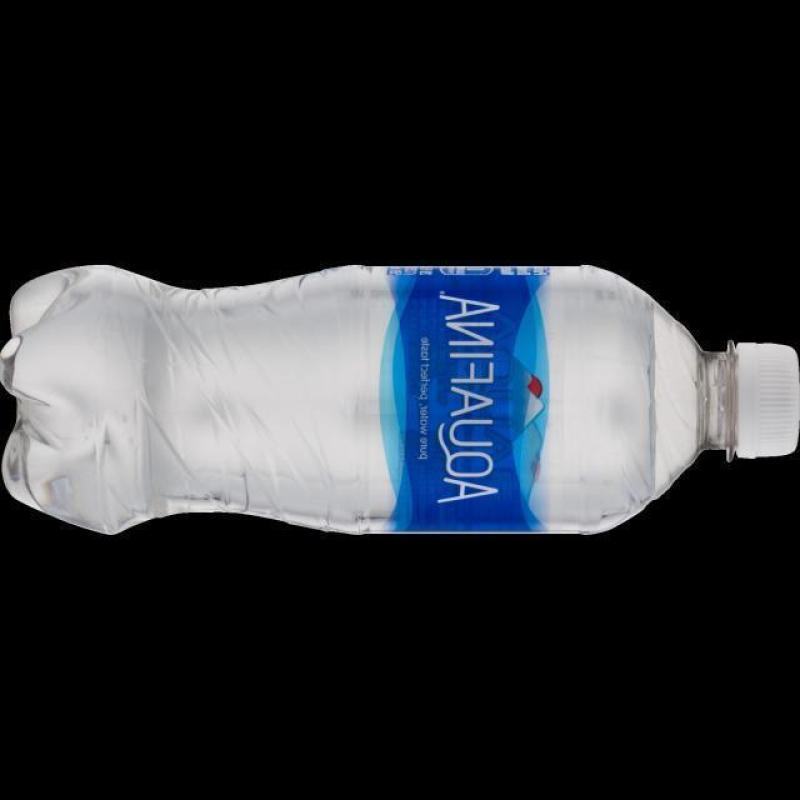botella: (1, 266, 800, 536)
